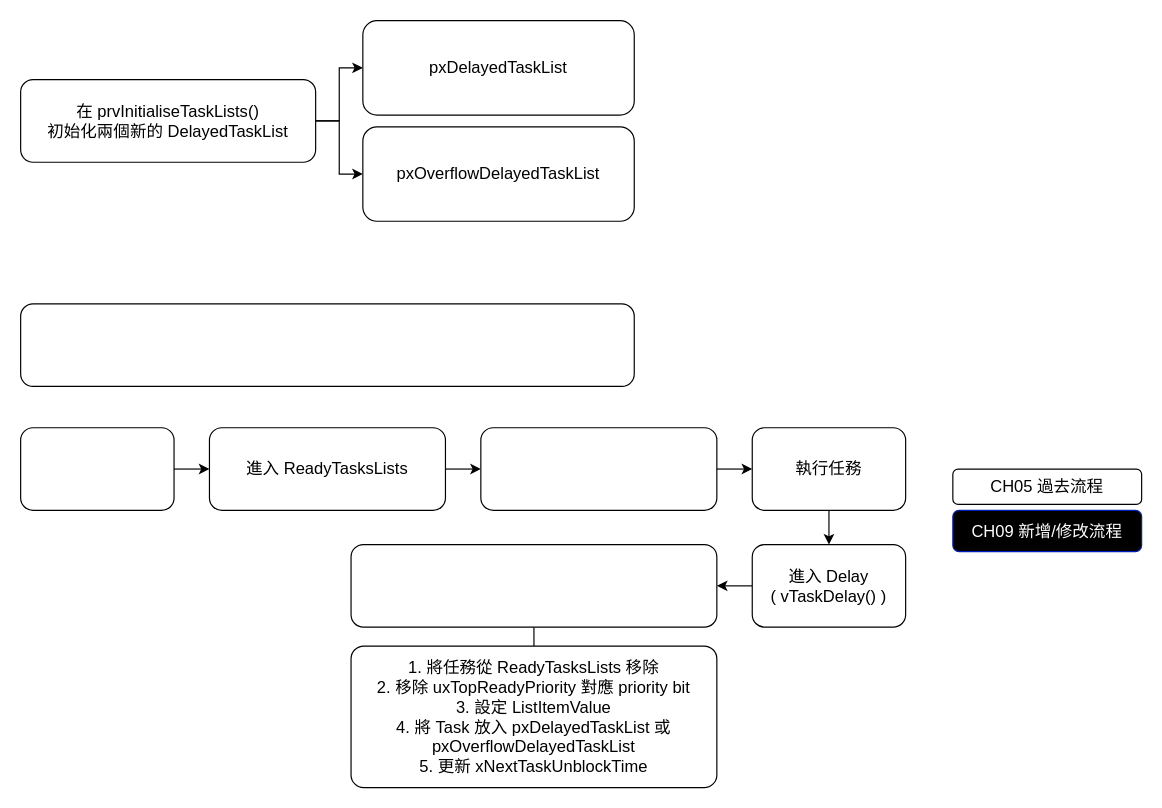
This 1162x808 diagram has some shape labels left out. The shapes that lost their labels are listed below. From the top down, each one's centre as x and y in pixels, then its label:
point (326, 344): Task 現在的生命週期
point (96, 468): Task Create
point (598, 468): 被 scheduler 選定排程
point (533, 585): prvAddCurrentTaskToDelayedList()
